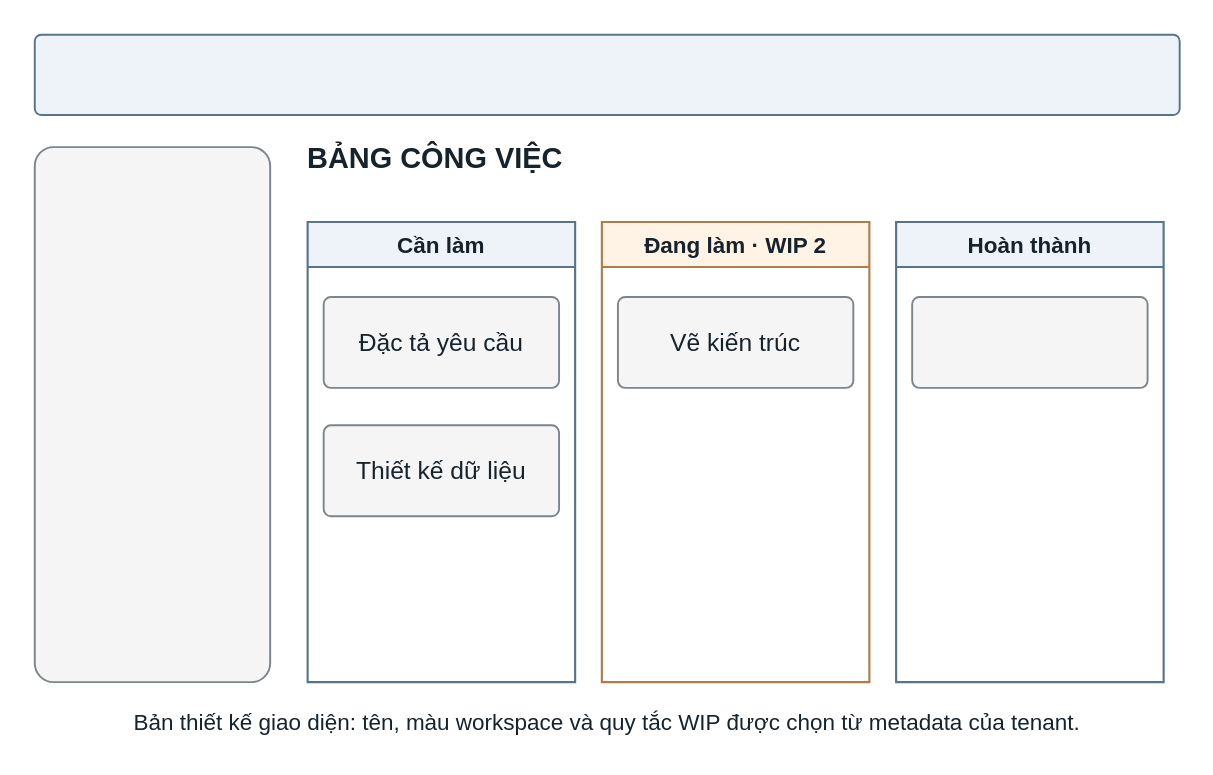
Image size: 1213x775. Some labels were removed from this diagram. Each missing label, with the centre of its shape:
"Không gian A Dự án Bảng Kanban Tài nguyên Thông báo" belongs at (x=152, y=414).
"Thống nhất phạm vi" belongs at (x=1029, y=341).
"WORKSPACE A | Dự án nghiên cứu | Thành viên | Cấu hình" belongs at (x=606, y=74).
